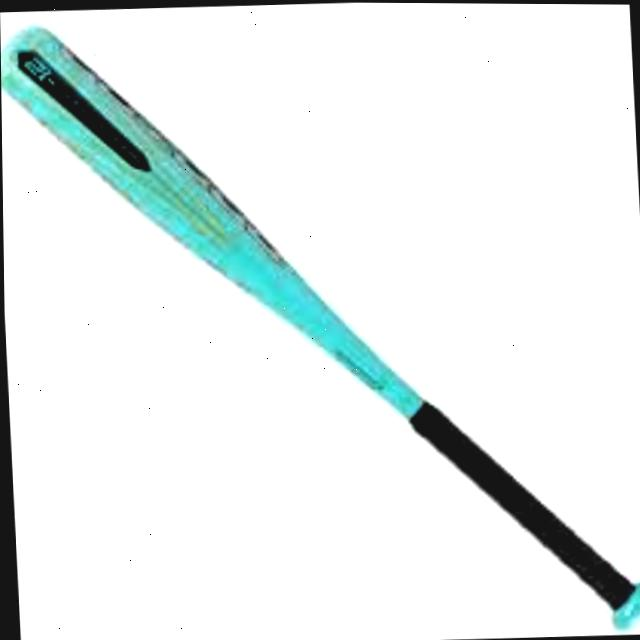baseball bat: (0, 24, 640, 629)
